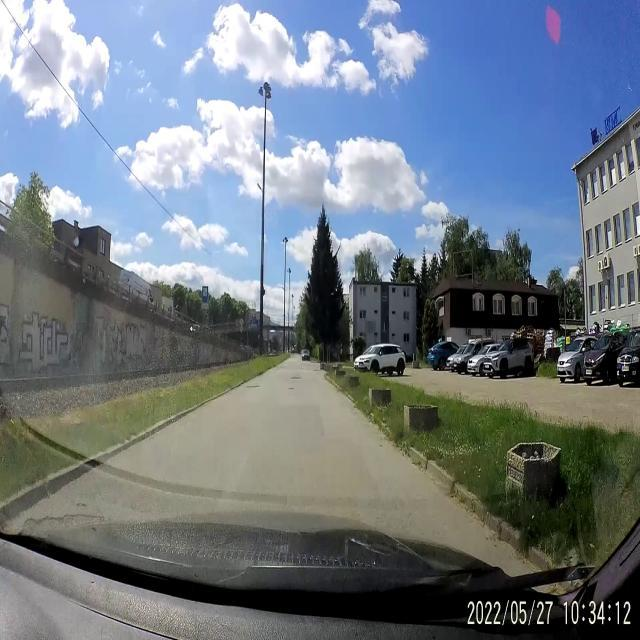Pothole: (23, 510, 103, 530), (244, 383, 264, 393), (286, 384, 296, 393), (291, 374, 302, 382)
